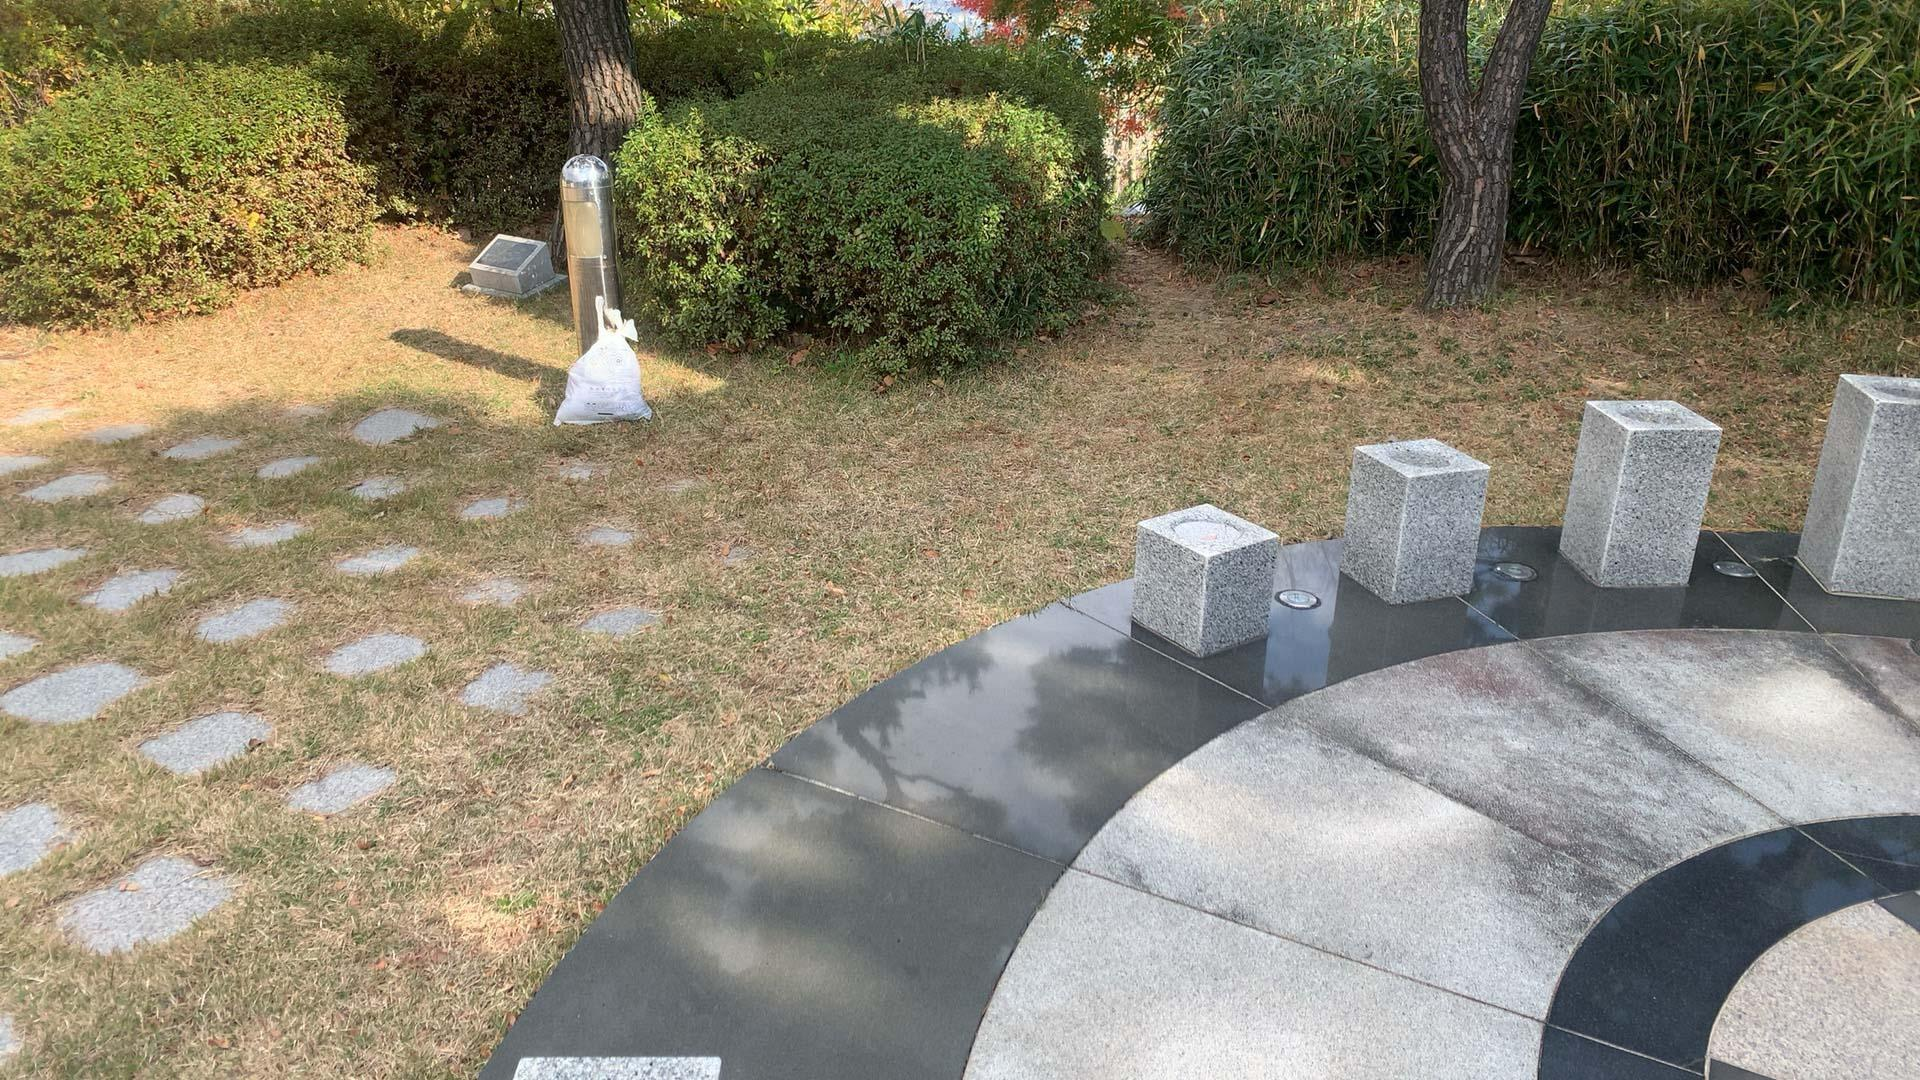white_bag: (549, 291, 662, 429)
